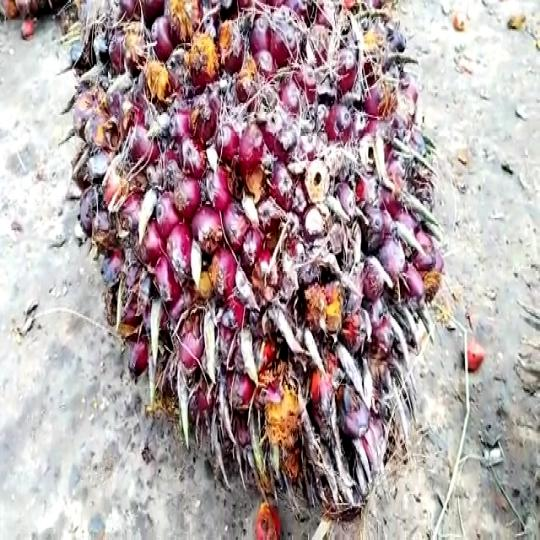masak: (69, 0, 448, 516)
